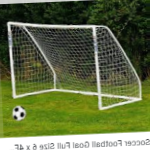goals: (4, 19, 144, 112)
